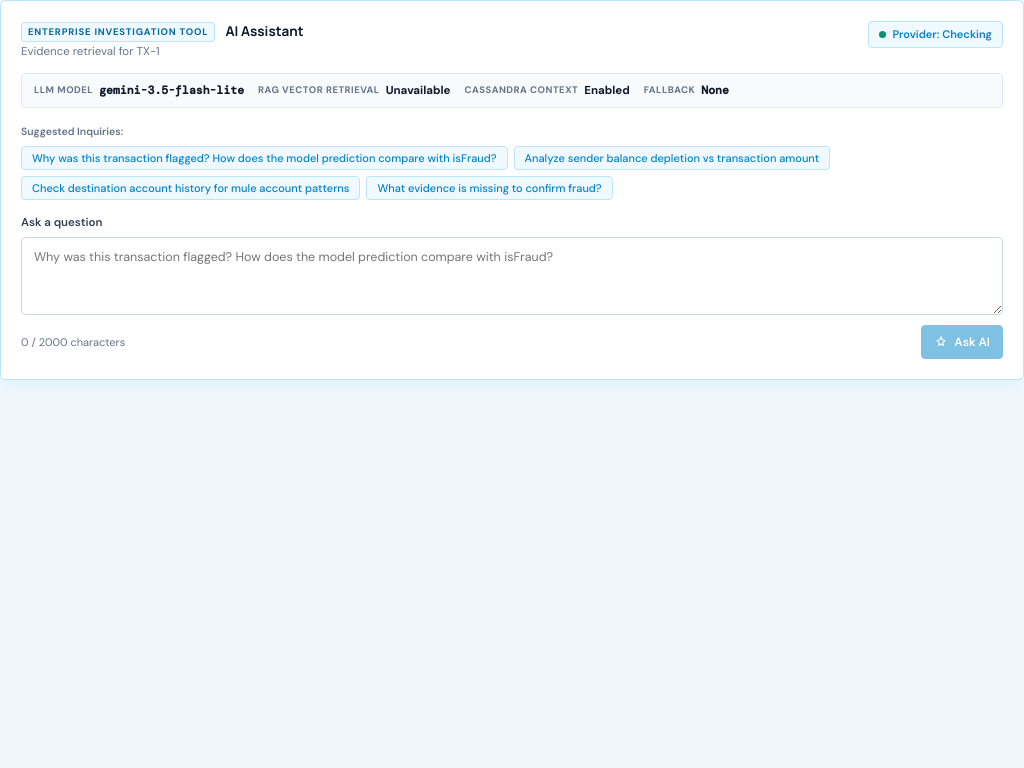
Test: AssistantPanel › sends a transaction-aware question and displays only returned evidence
Replace the text in the text box labelled "Ask a question" with "Why flagged?" at (512, 276), box [21,237,1003,315]
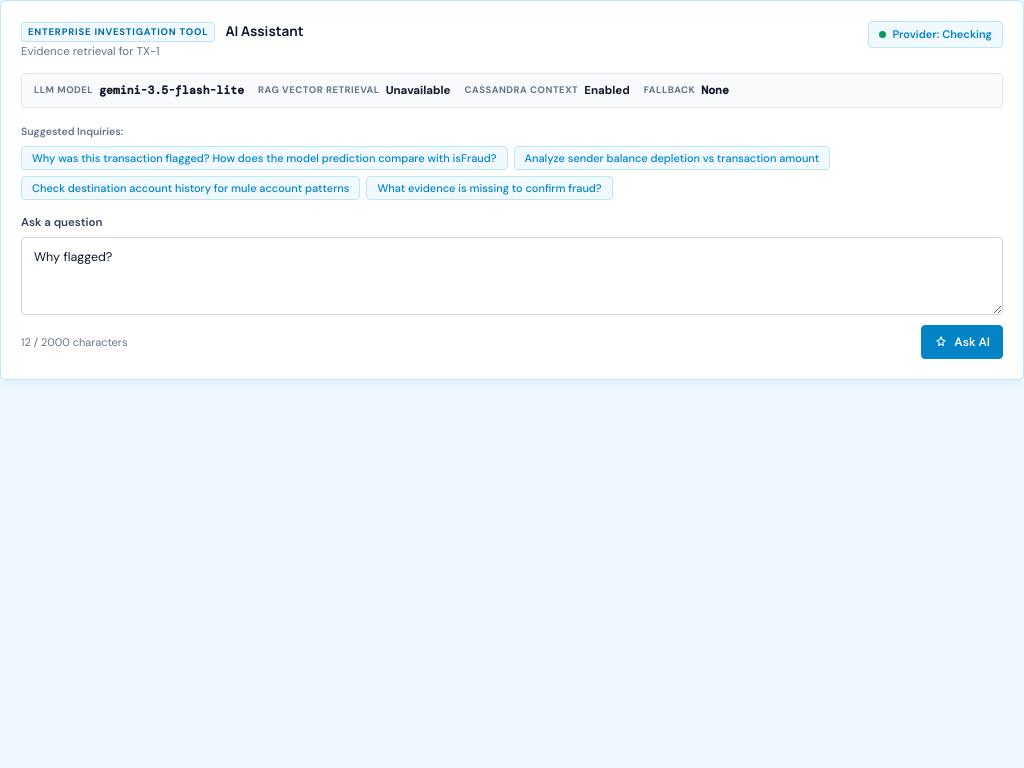
Click the button "Ask AI" at (962, 342), box [921,325,1003,359]
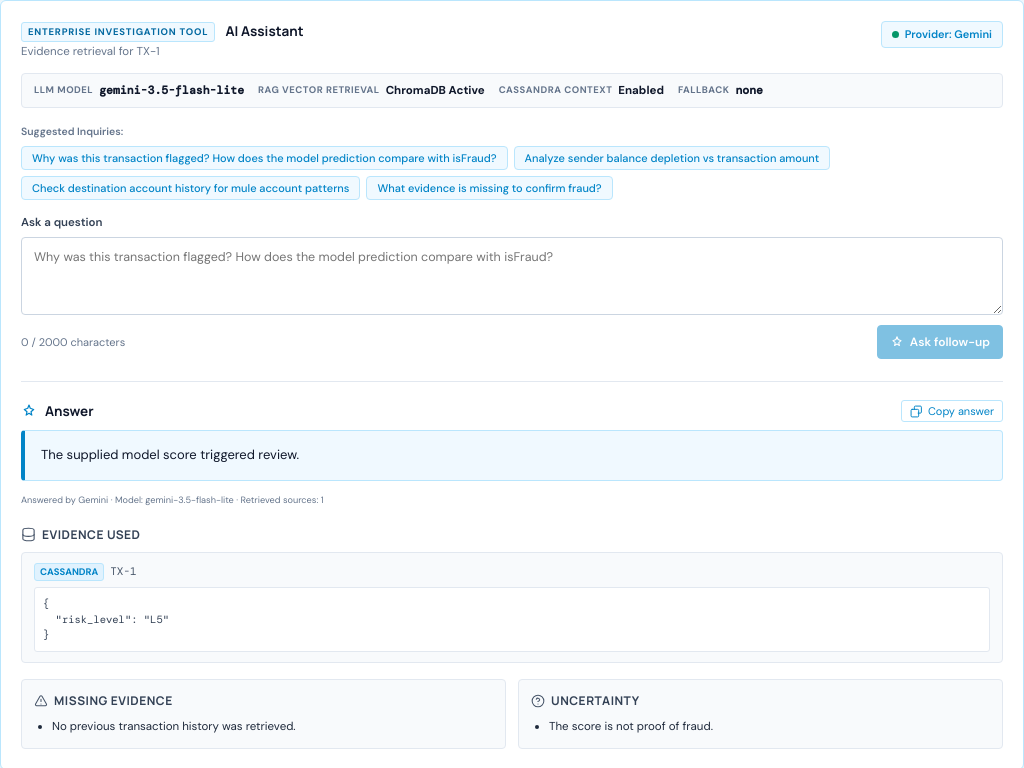
Expected: the text "The supplied model score triggered review." is shown, [41,446,299,463]
Expected: the text "TX-1" is shown, [110,563,137,580]
Expected: the text "Answered by Gemini · Model: gemini-3.5-flash-lite · Retrieved sources: 1" is shown, [21,494,324,506]
